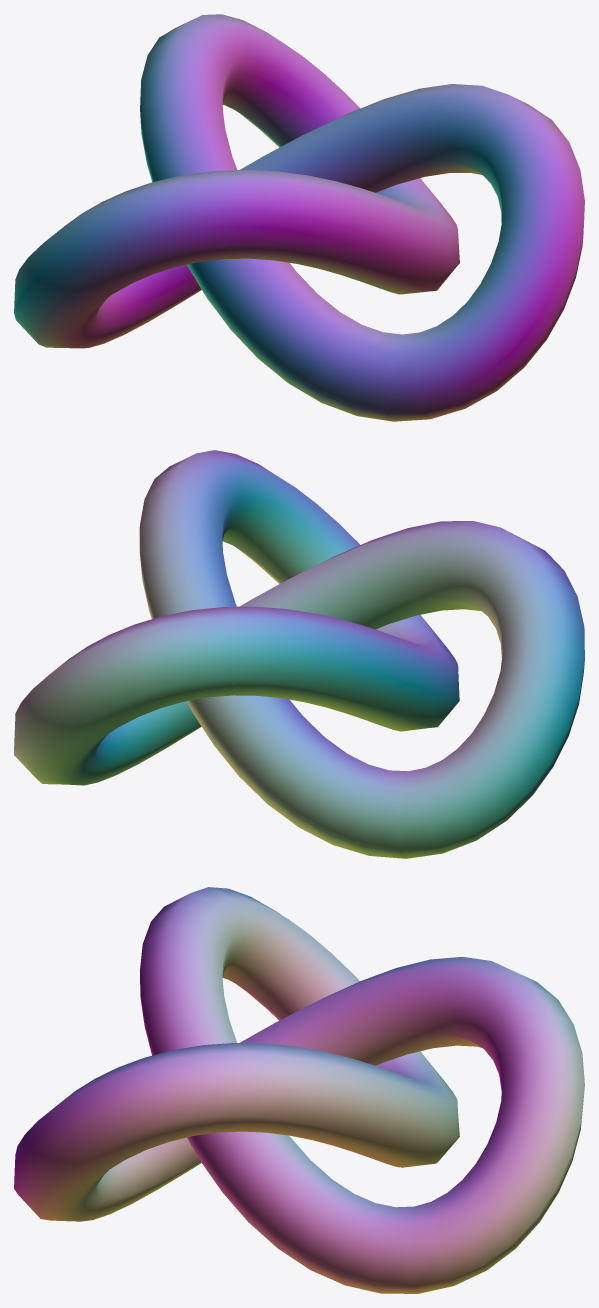
The model's file is TorusKnot.fbx.
3 views of the same model, one above another, from view 1: azimuth 30°, elevation 25°; view 2: azimuth 150°, elevation 25°; view 3: azimuth 270°, elevation 25° (orthographic).
Visible parts, largest first — view 1: TorusKnot; view 2: TorusKnot; view 3: TorusKnot.
Boxes of the visible parts, x1,y1,x2,y2 form: TorusKnot: [14, 14, 584, 421]; TorusKnot: [14, 450, 584, 858]; TorusKnot: [14, 887, 584, 1293].
Bounding box in the file's own units: 604 × 296 × 641.
